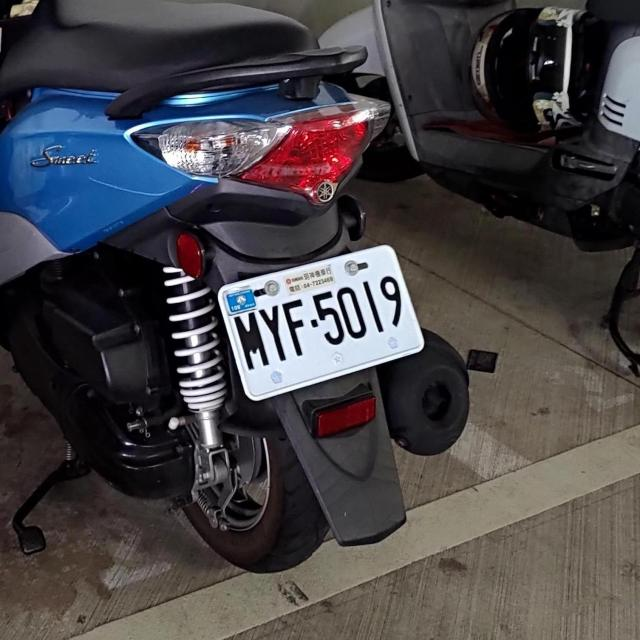W: (208, 237, 430, 403)
